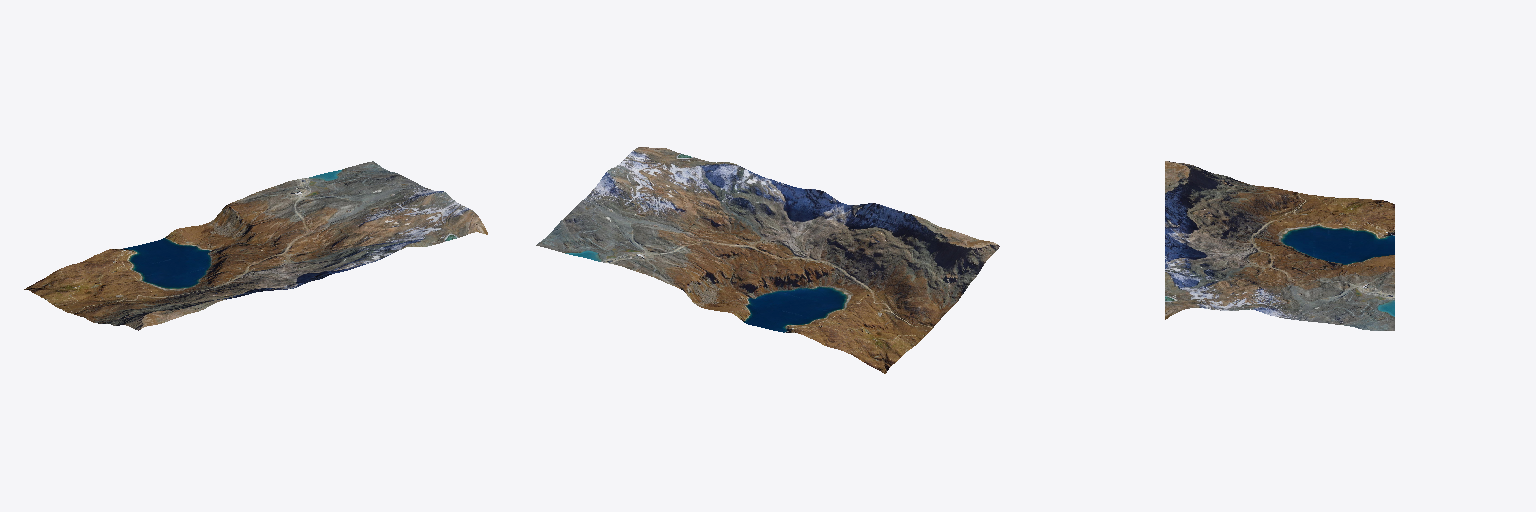
The picture shows the model from 3 angles: view 1: azimuth 30°, elevation 25°; view 2: azimuth 150°, elevation 25°; view 3: azimuth 270°, elevation 25°; orthographic projection.
Visible parts, largest first — view 1: EXPORT_GOOGLE_SAT_WM.005; view 2: EXPORT_GOOGLE_SAT_WM.005; view 3: EXPORT_GOOGLE_SAT_WM.005.
Part boxes in pixels (left/top/right/bottom): EXPORT_GOOGLE_SAT_WM.005: left=24, top=161, right=487, bottom=330; EXPORT_GOOGLE_SAT_WM.005: left=536, top=147, right=999, bottom=373; EXPORT_GOOGLE_SAT_WM.005: left=1165, top=161, right=1394, bottom=330.
Bounding box in the file's own units: 5323 × 971 × 3041.
Materials: 1 (1 with a texture image).